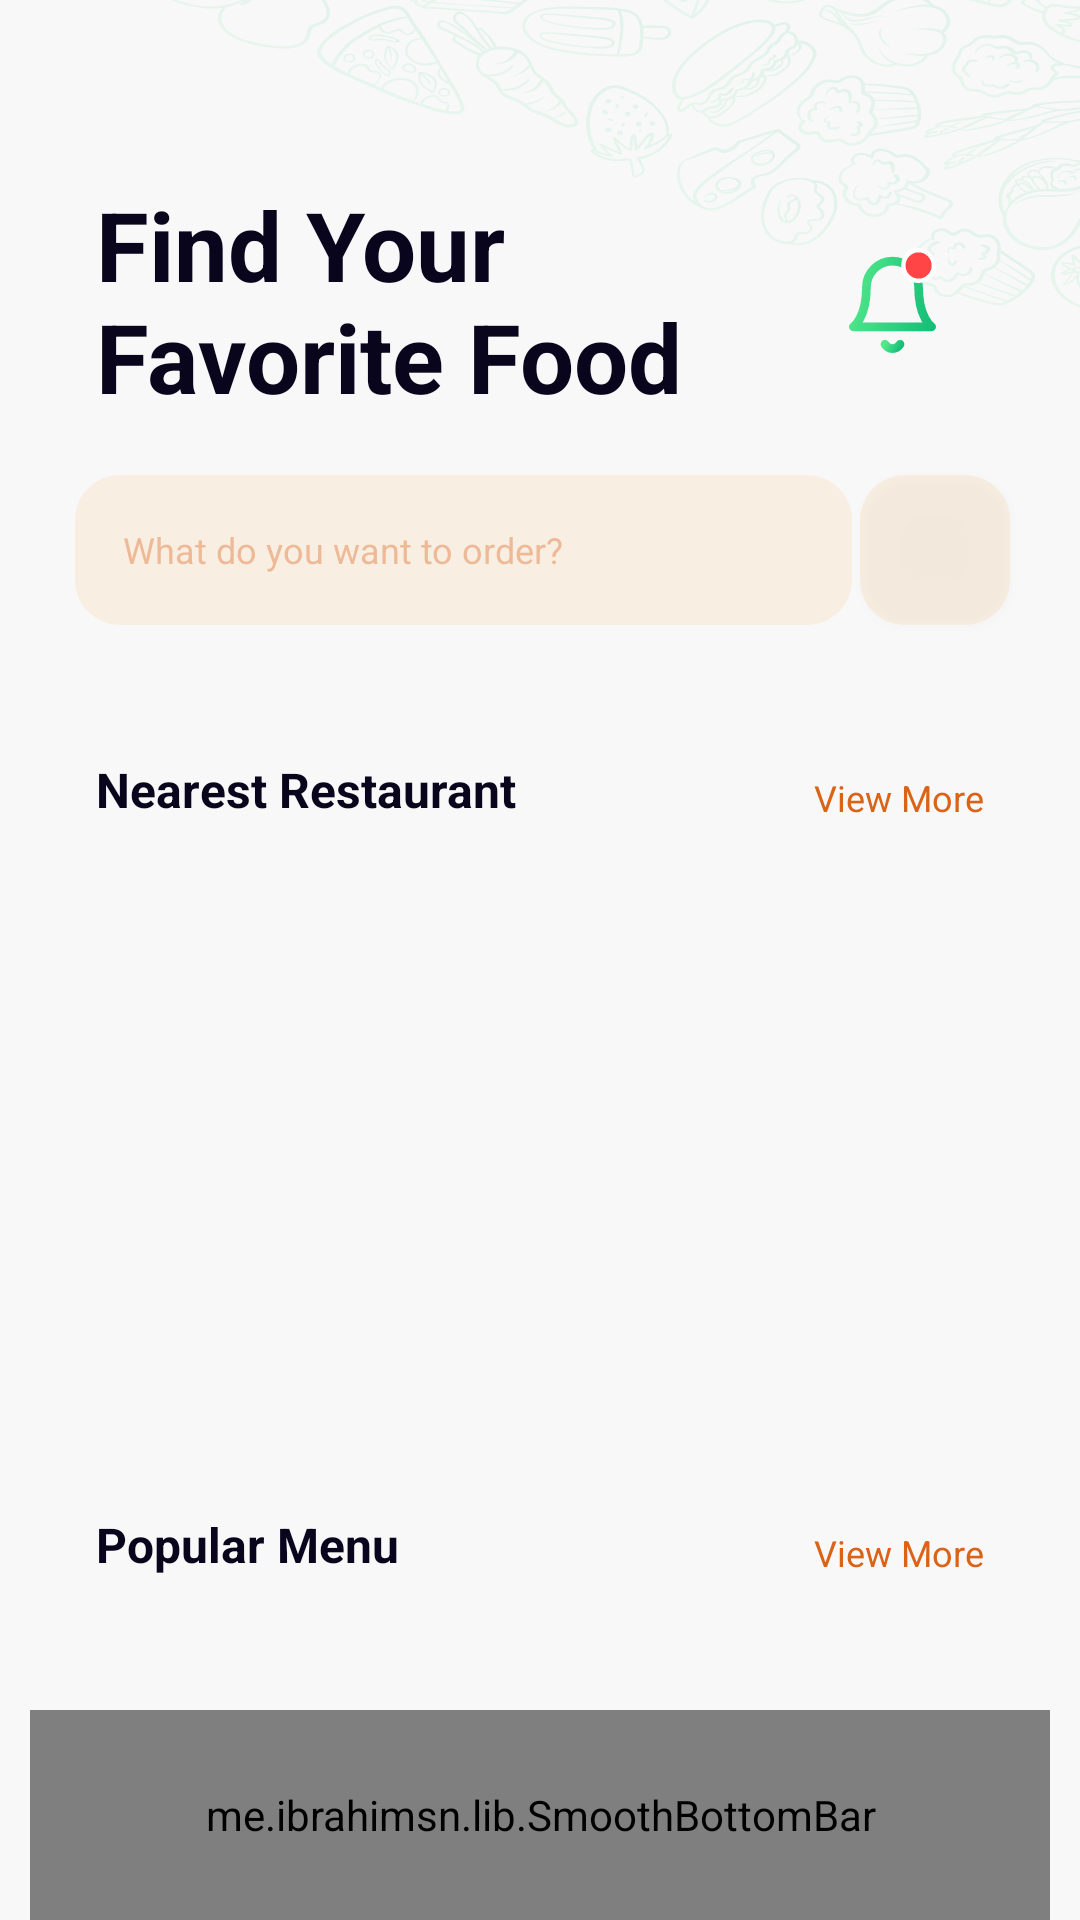

Icons on this 1080w x 1920h Android screen, each with its box as {"x1": x1, "y1": y1, "x2": x2, "y2": y2}:
notification: {"x1": 849, "y1": 252, "x2": 936, "y2": 353}
